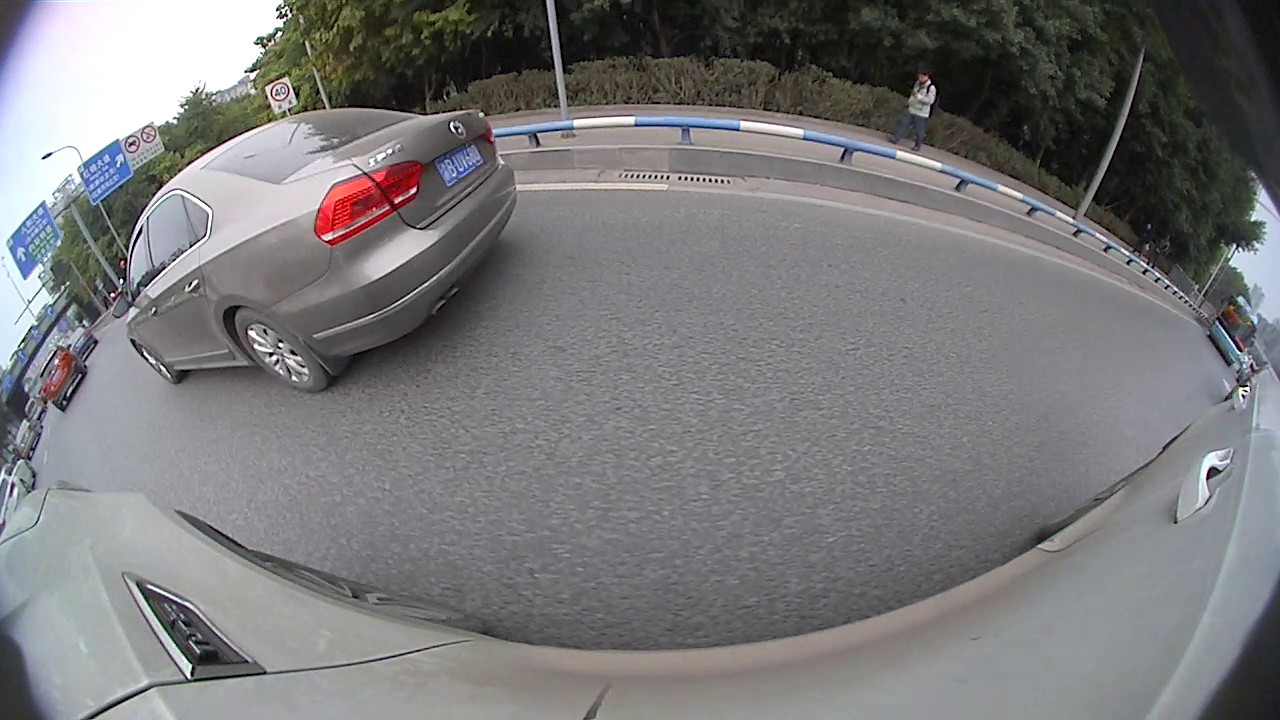car: (2, 275, 208, 440), (198, 176, 430, 301), (470, 137, 573, 214), (581, 145, 659, 205), (664, 158, 715, 187)
front: (159, 290, 198, 334), (400, 202, 425, 238), (438, 193, 452, 212)
rear: (31, 383, 77, 434), (290, 233, 335, 285), (542, 177, 554, 208)
